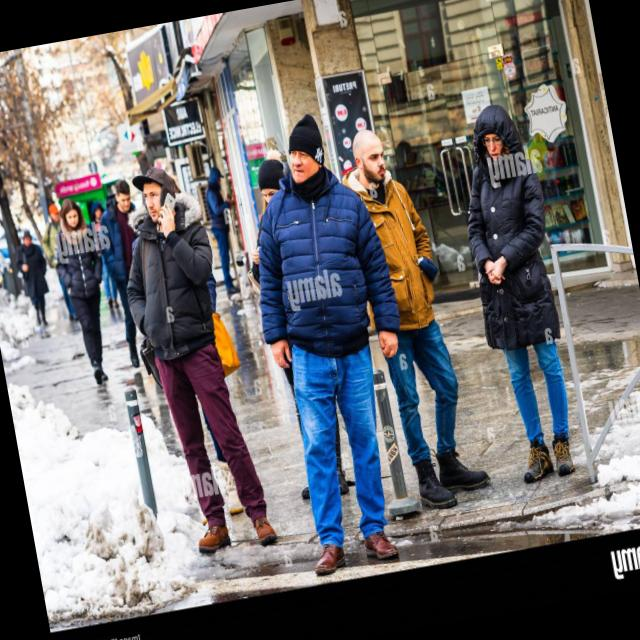Jacket: (222, 166, 414, 416), (448, 146, 591, 369), (111, 202, 239, 382), (345, 174, 444, 350), (55, 212, 112, 314), (7, 238, 52, 306)
